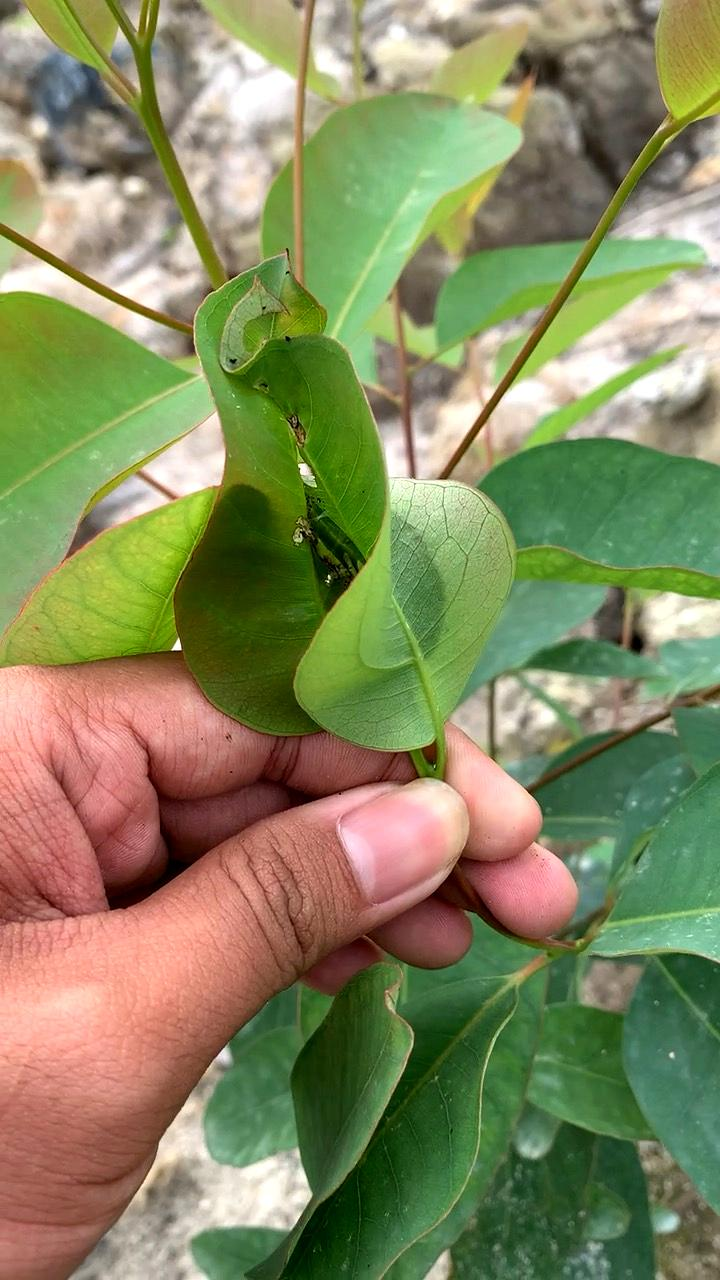Leaf Roller - Leaf: (147, 233, 528, 786)
